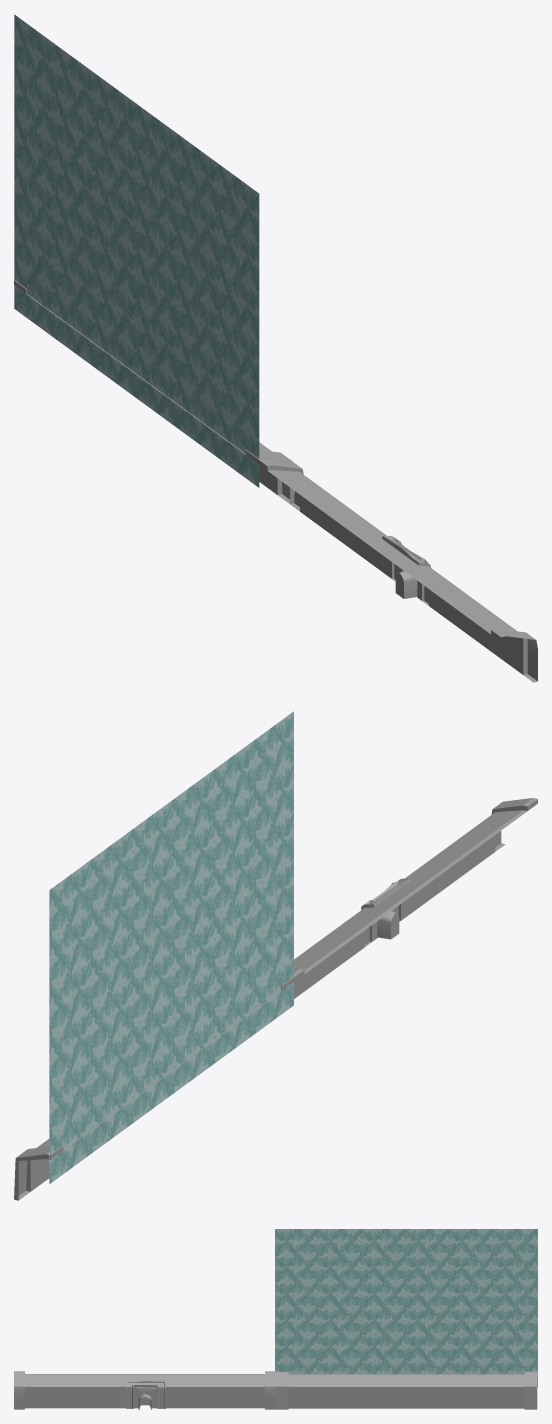
The model's file is environment_quarto.fbx.
3 views of the same model, one above another, from view 1: azimuth 30°, elevation 25°; view 2: azimuth 150°, elevation 25°; view 3: azimuth 270°, elevation 25° (orthographic). The views are drawn at different scales.
Visible parts, largest first — view 1: parede, batente1, batente; view 2: parede, batente1, batente; view 3: parede, batente, batente1.
Part boxes in pixels (left/top/right/bottom): parede: left=14, top=14, right=259, bottom=487; batente1: left=257, top=458, right=537, bottom=682; batente: left=14, top=280, right=294, bottom=503; parede: left=49, top=711, right=293, bottom=1184; batente1: left=294, top=798, right=537, bottom=998; batente: left=14, top=977, right=294, bottom=1200; parede: left=275, top=1229, right=537, bottom=1387; batente: left=275, top=1371, right=537, bottom=1409; batente1: left=14, top=1371, right=275, bottom=1409.
Bounding box in the file's own units: 1.58 × 10.83 × 30.04.
2 materials, 1 textured.
